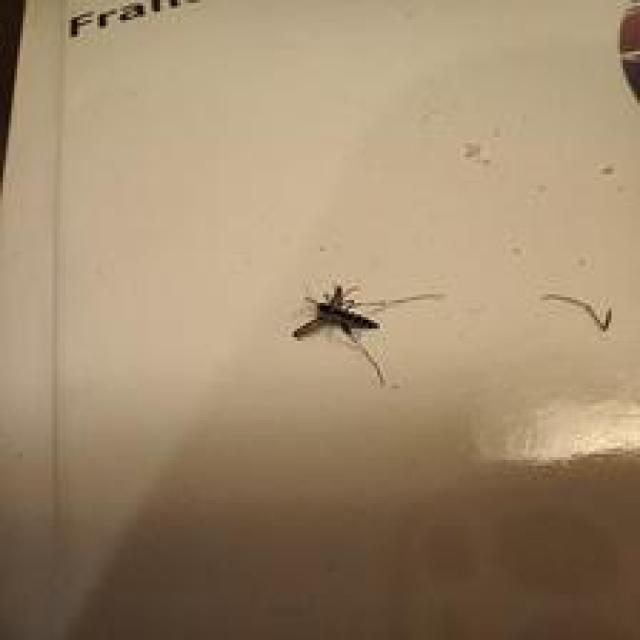Aedes albopictus: (290, 282, 444, 387)
